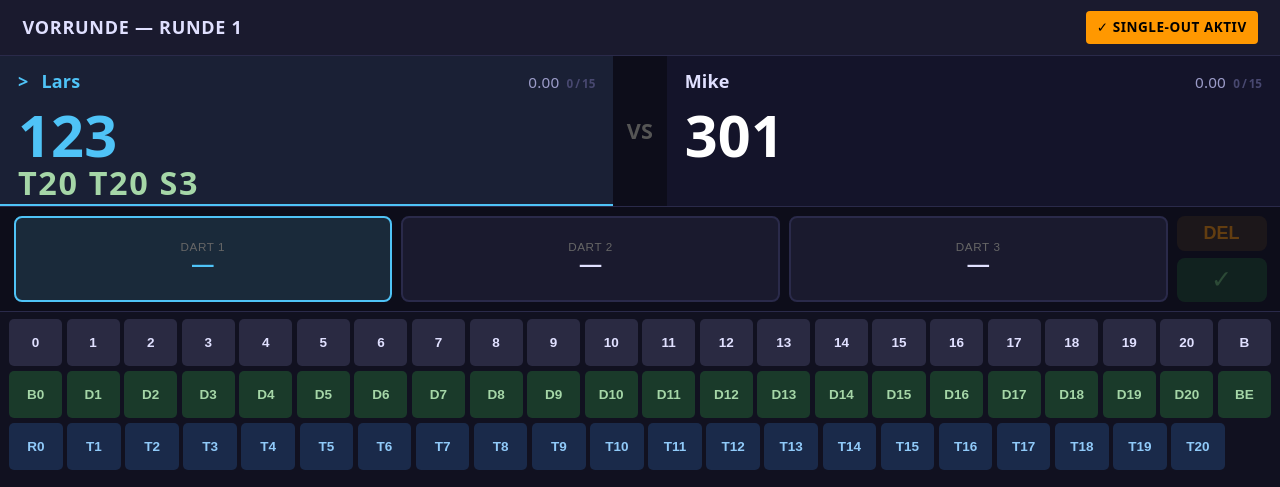
Test: ScoreEntryScreen › updates single-out checkout to "No Finish (T20)" after one dart entered mid-visit
The image size is (1280, 487).
Check: the button "DEL" is shown, box [1176,216,1266,251]
Check: the text "T20 T20 S3" is shown, box [18,160,199,204]
Enter single 20 (label "20", value 20) as first dart
Click the button "20" at (1187, 342), box [1160,319,1213,366]
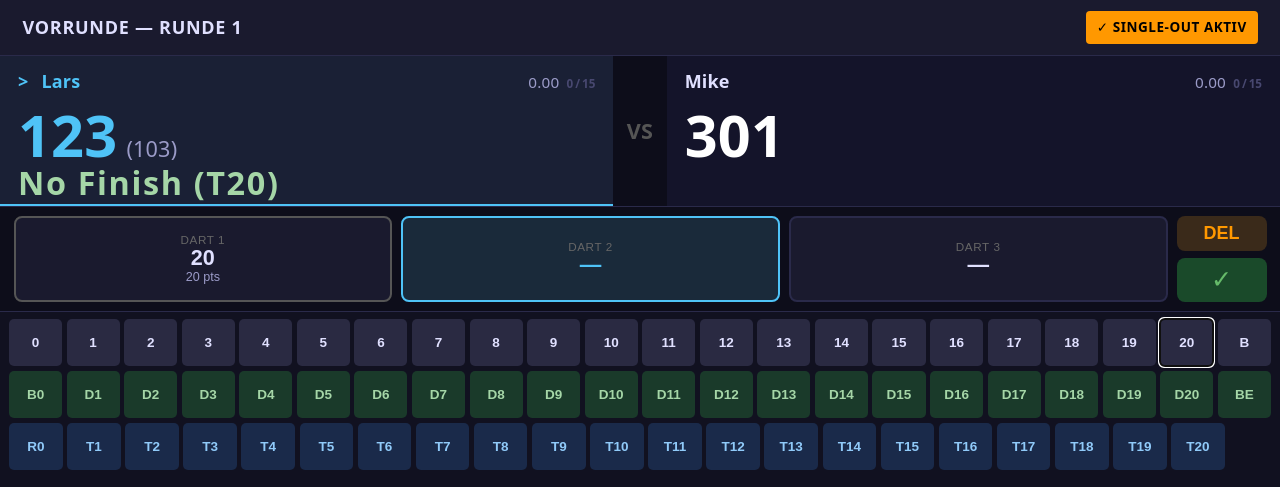
Check: the text "No Finish (T20)" is shown, box [18,160,280,204]
Check: the text "T20 T20 S3" is gone
